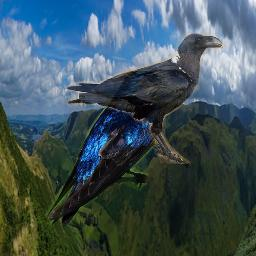Crow: (66, 33, 225, 164)
Swallow: (45, 70, 168, 227)
